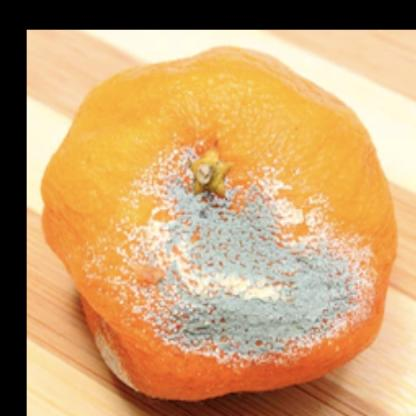rotten: (45, 47, 400, 399)
